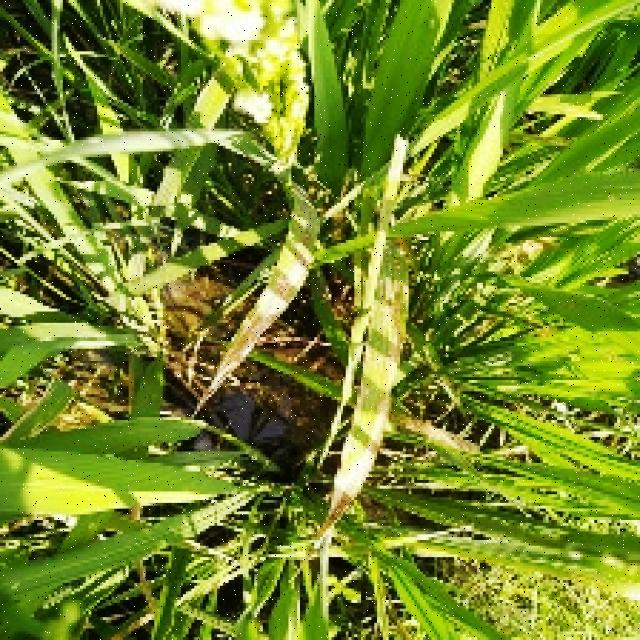health: (299, 7, 640, 214)
